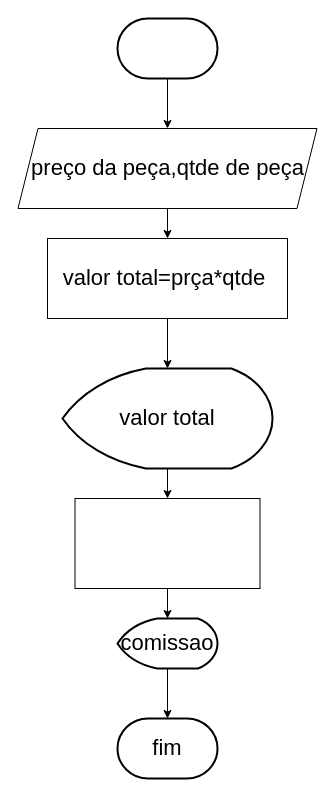
Some shapes in this 334 by 796 pixel diagram are drawn without their labels. Here are the shapes that lost their labels. From the top down, the centre of each, then its label:
At [167,48]: "inicio".
At [167,543]: "comissao=(valor total/100)*5".
